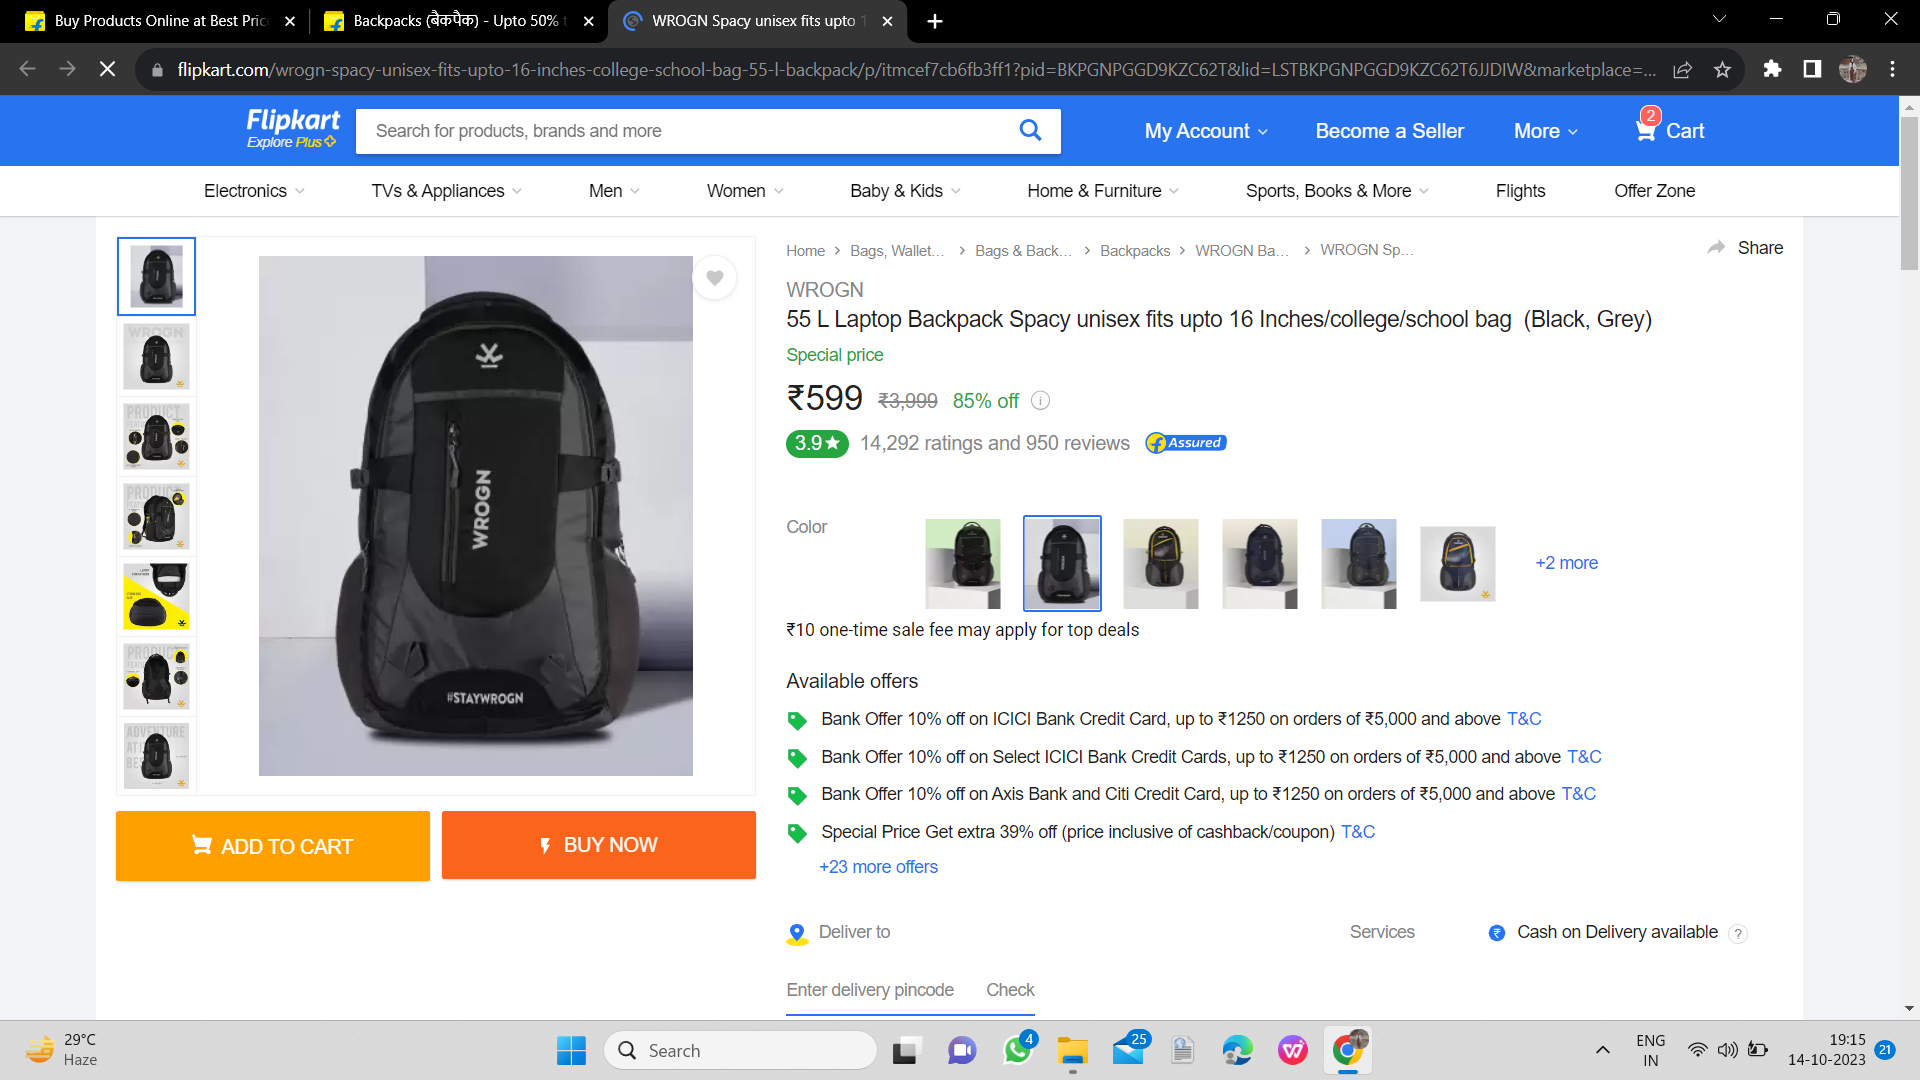Image: (264, 257, 740, 773), (895, 513, 1622, 611)
Paragraph: (767, 705, 1622, 882), (770, 272, 1689, 339), (104, 804, 766, 885), (1120, 98, 1733, 153), (767, 919, 1069, 1014), (781, 421, 1251, 462), (777, 343, 1025, 411), (1340, 913, 1727, 956), (767, 613, 1154, 638), (783, 671, 922, 696), (774, 509, 844, 535)
